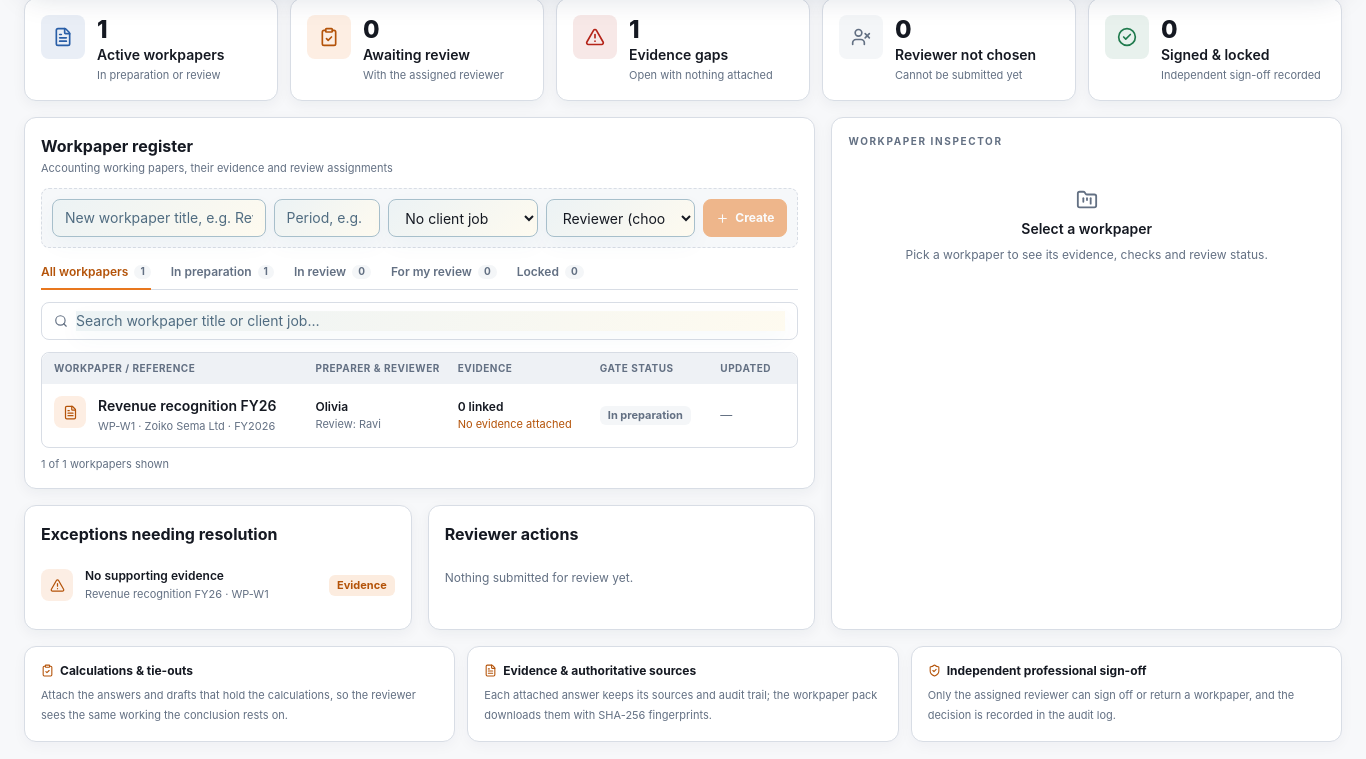
Workpapers › shows the server's refusal
(page scrolled)
Click the text "Revenue recognition FY26". click: (187, 406)
box: [98,396,276,416]
(page scrolled)
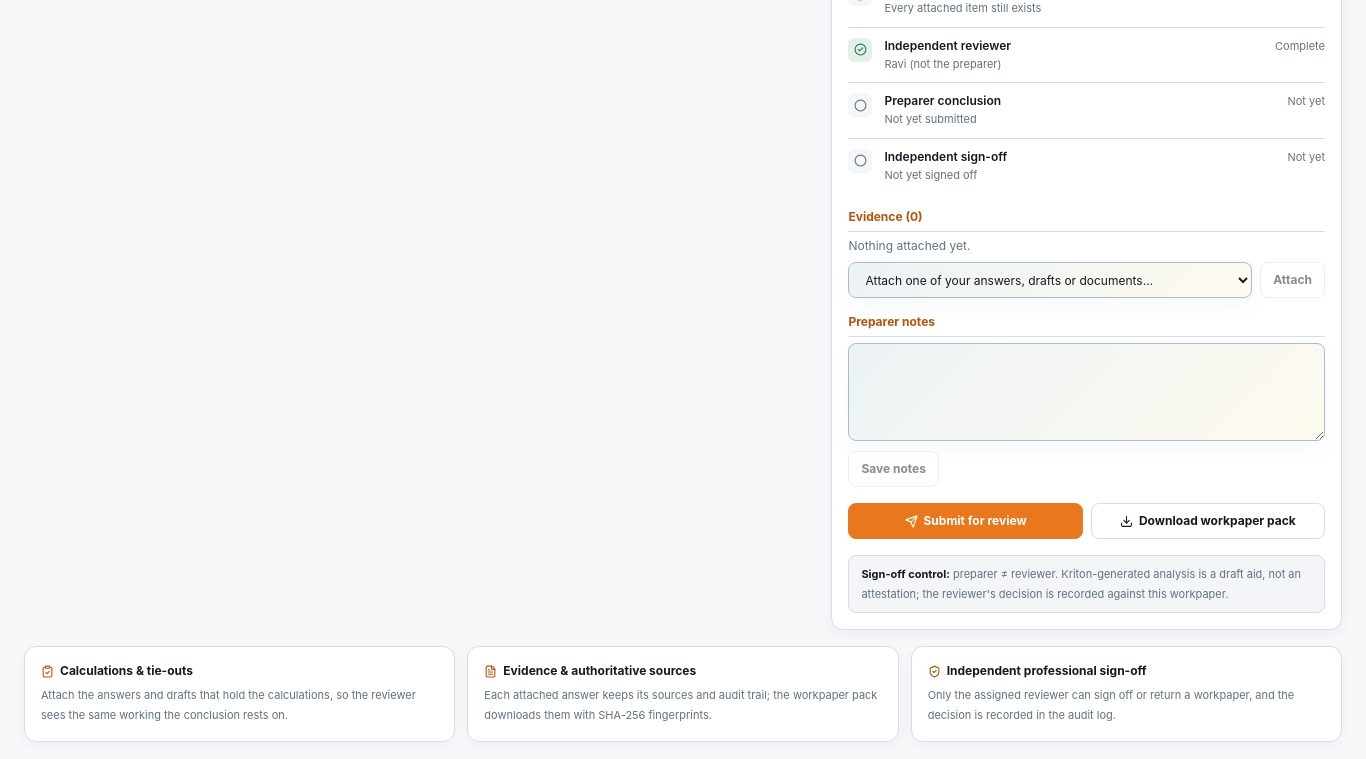
Click the button "Submit for review". click: (966, 521)
box: [848,503,1083,539]
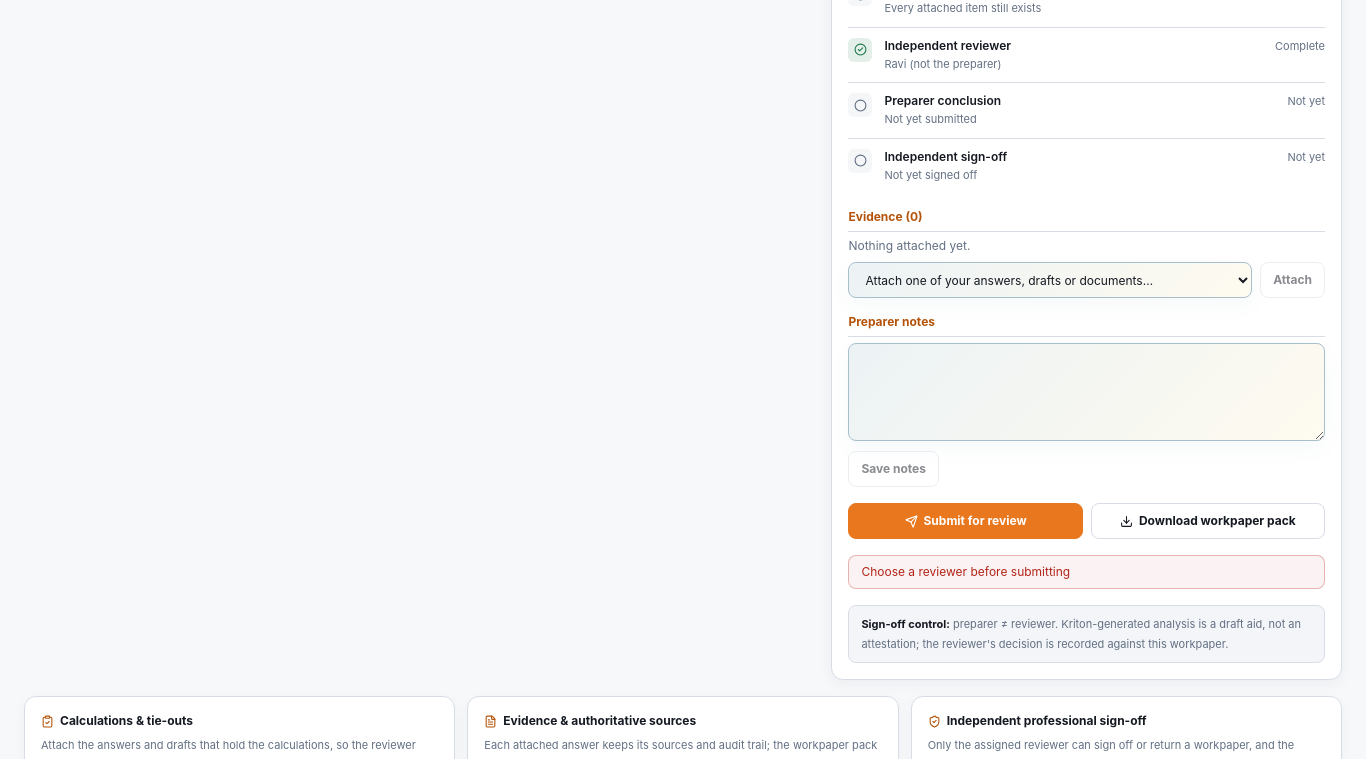
Now the message reads "Choose a reviewer before submitting", box [861,564,1070,579]
